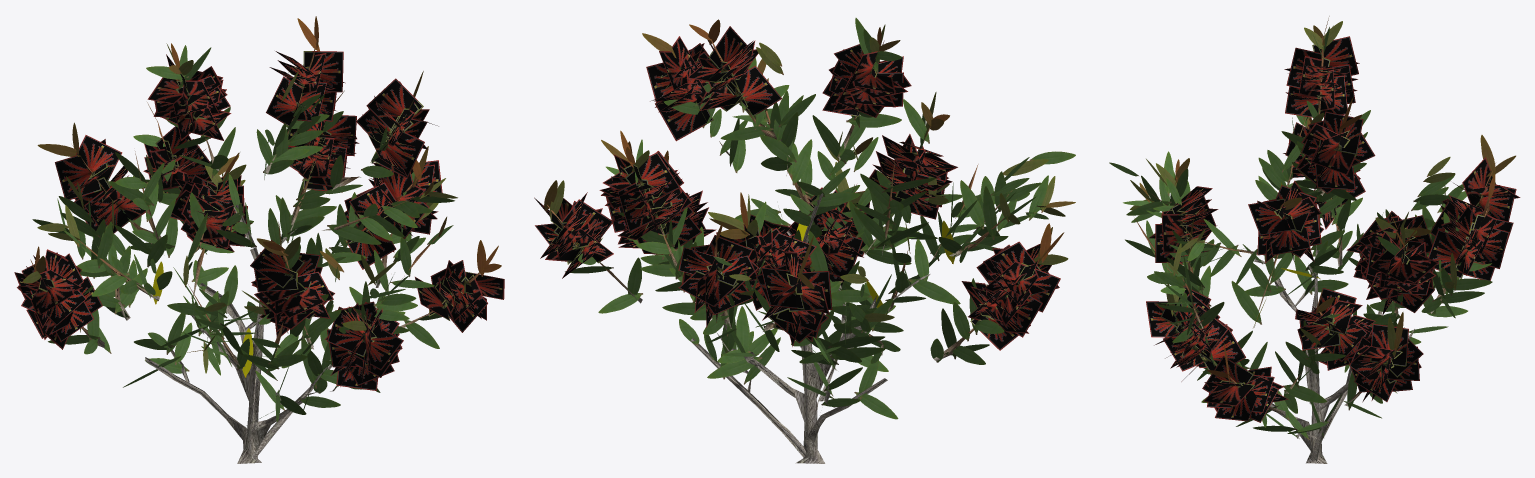
File: ohia_shrub_far.glb
The picture shows the model from 3 angles, left to right: view 1: azimuth 30°, elevation 25°; view 2: azimuth 150°, elevation 25°; view 3: azimuth 270°, elevation 25°; orthographic projection. The views are drawn at different scales.
Visible parts, largest first — view 1: Callistemon_laevis_HD; view 2: Callistemon_laevis_HD; view 3: Callistemon_laevis_HD.
Boxes of the visible parts, bbox=[...] form: Callistemon_laevis_HD: bbox=[14, 16, 504, 463]; Callistemon_laevis_HD: bbox=[534, 18, 1075, 463]; Callistemon_laevis_HD: bbox=[1109, 16, 1520, 463].
Bounding box in the file's own units: 0.7488 × 0.6733 × 0.6102.
Materials: 9 (9 with a texture image).
